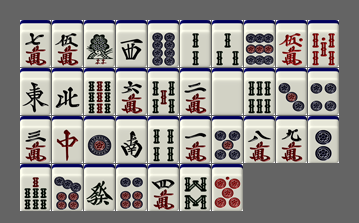0m: (276, 20, 307, 67)
0p: (212, 164, 243, 211)
0s: (308, 20, 339, 67)
1m: (180, 116, 211, 163)
1p: (84, 116, 115, 163)
1s: (84, 20, 115, 67)
1z: (20, 68, 51, 115)
2m: (180, 68, 211, 115)
2p: (308, 116, 339, 163)
2s: (180, 20, 211, 67)
2z: (116, 116, 147, 163)
3m: (20, 116, 51, 163)
3p: (276, 68, 307, 115)
3s: (212, 20, 243, 67)
3z: (116, 20, 147, 67)
4m: (148, 164, 179, 211)
4p: (308, 68, 339, 115)
4s: (148, 116, 179, 163)
4z: (52, 68, 83, 115)
5m: (52, 20, 83, 67)
5p: (212, 116, 243, 163)
5s: (148, 68, 179, 115)
5z: (212, 68, 243, 115)
6m: (116, 68, 147, 115)
6p: (116, 164, 147, 211)
6s: (244, 68, 275, 115)
6z: (84, 164, 115, 211)
7m: (20, 20, 51, 67)
7p: (52, 164, 83, 211)
7s: (20, 164, 51, 211)
7z: (52, 116, 83, 163)
8m: (244, 116, 275, 163)
8p: (148, 20, 179, 67)
8s: (180, 164, 211, 211)
9m: (276, 116, 307, 163)
9p: (244, 20, 275, 67)
9s: (84, 68, 115, 115)
